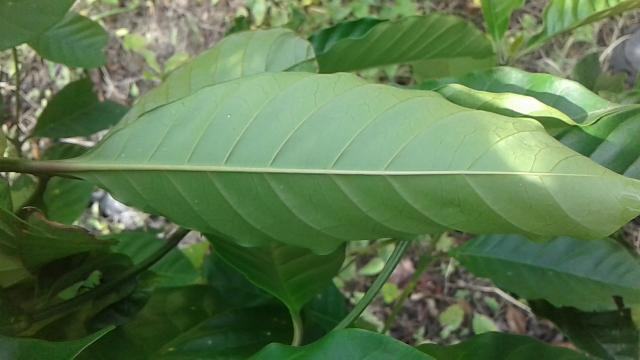healthy: (70, 70, 640, 258)
